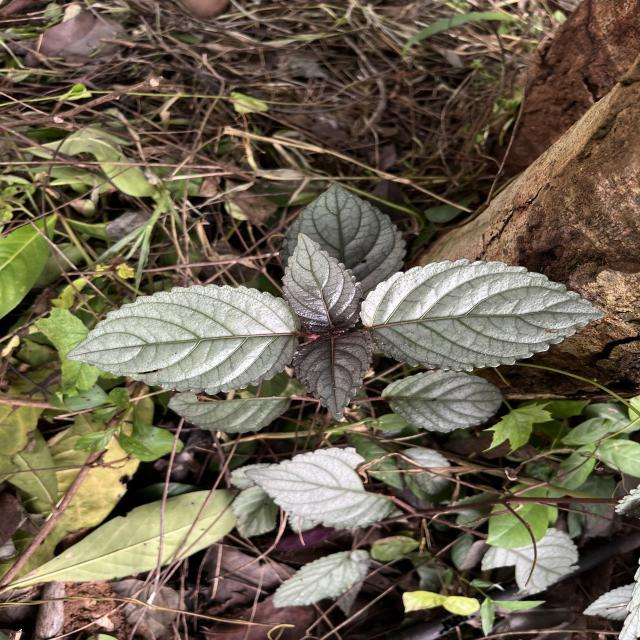Hemigraphis colorata: (352, 254, 612, 374), (62, 277, 300, 398), (279, 229, 368, 332), (380, 366, 508, 436), (289, 328, 377, 424)
